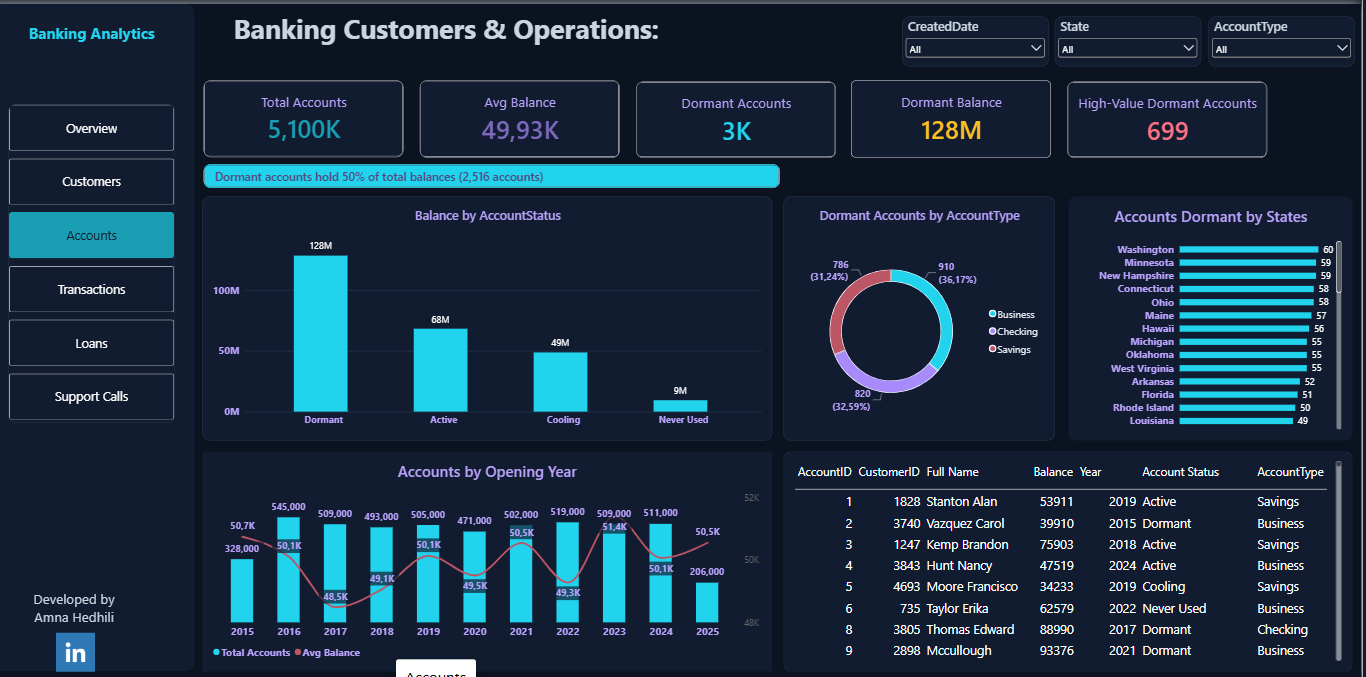

What the dashboard file says about the page in this screenshot:
{"tool":"powerbi","page":{"name":"Accounts","canvas":[2200,1080],"ordinal":2},"visuals":[{"type":"cardVisual","fields":{"Data":["Accounts Measures.Total Accounts"]},"box":[348.6,122.8,320,123],"z":0},{"type":"textbox","box":[396,10,826,100],"z":1000},{"type":"cardVisual","title":"Valid Cards","fields":{"Data":["Accounts Measures.Dormant Balance"]},"box":[1384.6,121.8,320,124],"z":2000},{"type":"cardVisual","fields":{"Data":["Accounts Measures.Avg Balance"]},"box":[694.6,121.8,320,124],"z":3000},{"type":"cardVisual","fields":{"Data":["Accounts Measures.Dormant Accounts"]},"box":[1039.6,123.8,320,122],"z":4000},{"type":"cardVisual","fields":{"Data":["Accounts Measures.High-Value Dormant Accounts"]},"box":[1729.6,123.8,320,122],"z":5000},{"type":"clusteredColumnChart","title":" Balance by AccountStatus","fields":{"Category":["accounts.Account Status"],"Y":["Measures Table.Total Balance"]},"box":[346,308,912,390],"z":6000},{"type":"lineClusteredColumnComboChart","title":" Accounts by Opening Year","fields":{"Category":["Calendar.Year"],"Y":["Accounts Measures.Total Accounts"],"Y2":["Accounts Measures.Avg Balance"]},"box":[346,716,912,352],"z":7000},{"type":"slicer","fields":{"Values":["accounts.CreatedDate"]},"box":[1465.6,20,234,80],"z":8000},{"type":"slicer","fields":{"Values":["customers.State"]},"box":[1710.6,20,234,80],"z":9000},{"type":"slicer","fields":{"Values":["accounts.AccountType"]},"box":[1955.6,20,234,80],"z":10000},{"type":"clusteredBarChart","title":"Accounts Dormant by States","fields":{"Category":["customers.State"],"Y":["Accounts Measures.Dormant Accounts"]},"box":[1732,308,454,390],"z":11000},{"type":"shape","box":[4,0,330,1068],"z":12000},{"type":"textbox","box":[20,30,298,100],"z":13000},{"type":"tableEx","fields":{"Values":["accounts.AccountID","customers.CustomerID","customers.Full Name","Sum(accounts.Balance)","Calendar.Year","accounts.Account Status","accounts.AccountType"]},"box":[1276,716,910,352],"z":14000},{"type":"donutChart","fields":{"Category":["accounts.AccountType"],"Y":["Accounts Measures.Dormant Accounts"]},"box":[1276,308,434,390],"z":15000},{"type":"pageNavigator","box":[36,160,266,510],"z":16000},{"type":"textbox","box":[36,936,210,64],"z":16001},{"type":"cardVisual","fields":{"Data":["Accounts Measures.Accounts Takeaway"]},"box":[348,255,922,38],"z":16004},{"type":"image","box":[108,1006,70,62],"z":16005}]}

Visuals, with their boxes on the page's 2200x1080 design canvas (x1, y1, x2, y2). These are canvas units, not pixel positions in the 1366x677 screenshot, which may show the page scaled, cropped or inside an application window:
cardVisual - Accounts Measures.Total Accounts: [x1=349, y1=123, x2=669, y2=246]
textbox: [x1=396, y1=10, x2=1222, y2=110]
"Valid Cards" cardVisual: [x1=1385, y1=122, x2=1705, y2=246]
cardVisual - Accounts Measures.Avg Balance: [x1=695, y1=122, x2=1015, y2=246]
cardVisual - Accounts Measures.Dormant Accounts: [x1=1040, y1=124, x2=1360, y2=246]
cardVisual - Accounts Measures.High-Value Dormant Accounts: [x1=1730, y1=124, x2=2050, y2=246]
" Balance by AccountStatus" clusteredColumnChart: [x1=346, y1=308, x2=1258, y2=698]
" Accounts by Opening Year" lineClusteredColumnComboChart: [x1=346, y1=716, x2=1258, y2=1068]
slicer - accounts.CreatedDate: [x1=1466, y1=20, x2=1700, y2=100]
slicer - customers.State: [x1=1711, y1=20, x2=1945, y2=100]
slicer - accounts.AccountType: [x1=1956, y1=20, x2=2190, y2=100]
"Accounts Dormant by States" clusteredBarChart: [x1=1732, y1=308, x2=2186, y2=698]
shape: [x1=4, y1=0, x2=334, y2=1068]
textbox: [x1=20, y1=30, x2=318, y2=130]
tableEx - accounts.AccountID x customers.CustomerID: [x1=1276, y1=716, x2=2186, y2=1068]
donutChart - accounts.AccountType x Accounts Measures.Dormant Accounts: [x1=1276, y1=308, x2=1710, y2=698]
pageNavigator: [x1=36, y1=160, x2=302, y2=670]
textbox: [x1=36, y1=936, x2=246, y2=1000]
cardVisual - Accounts Measures.Accounts Takeaway: [x1=348, y1=255, x2=1270, y2=293]
image: [x1=108, y1=1006, x2=178, y2=1068]
